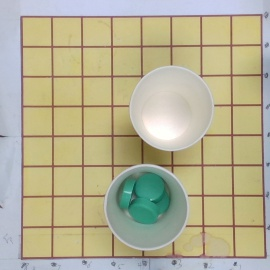cup: (128, 66, 213, 151)
cup_green: (105, 165, 192, 251)
